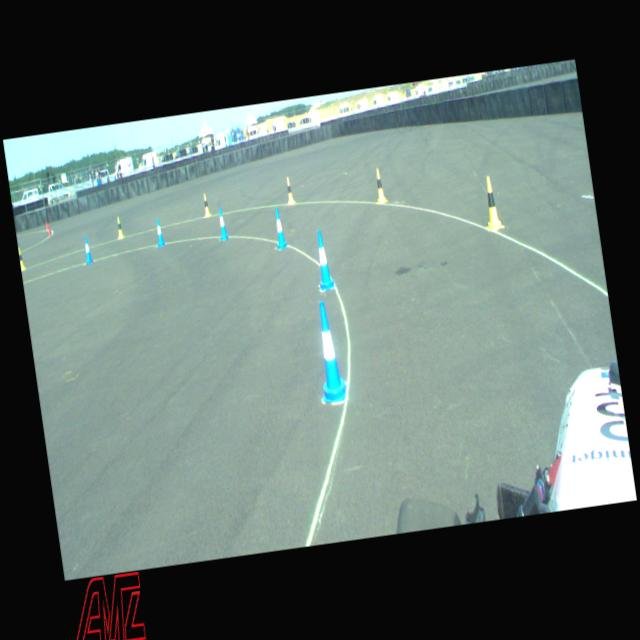blue_cone: (310, 299, 349, 403), (312, 229, 336, 291), (272, 207, 288, 250), (216, 207, 228, 240), (154, 218, 166, 248), (82, 236, 94, 264)
unknown_cone: (45, 218, 49, 232), (48, 224, 52, 237)
yellow_cone: (481, 175, 503, 231), (373, 168, 388, 205), (284, 177, 296, 204), (202, 192, 212, 218), (115, 216, 125, 240), (18, 247, 26, 270)
